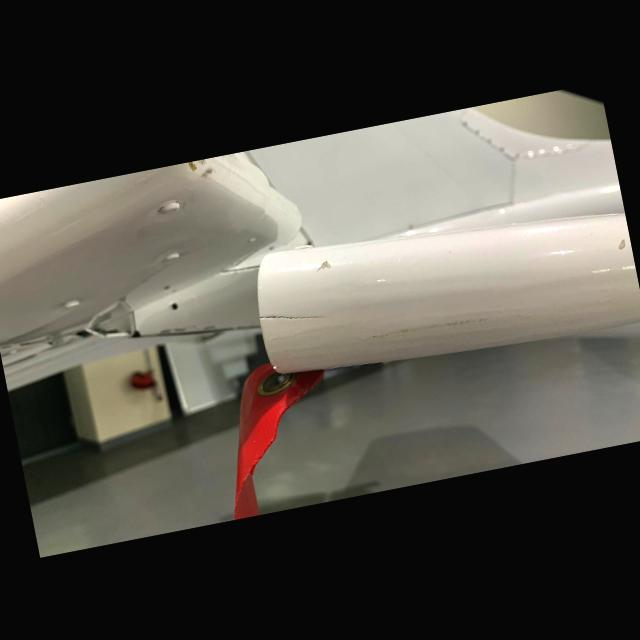Missing Fastener: (168, 299, 183, 312)
